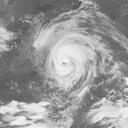cyclone: (42, 32, 89, 89)
